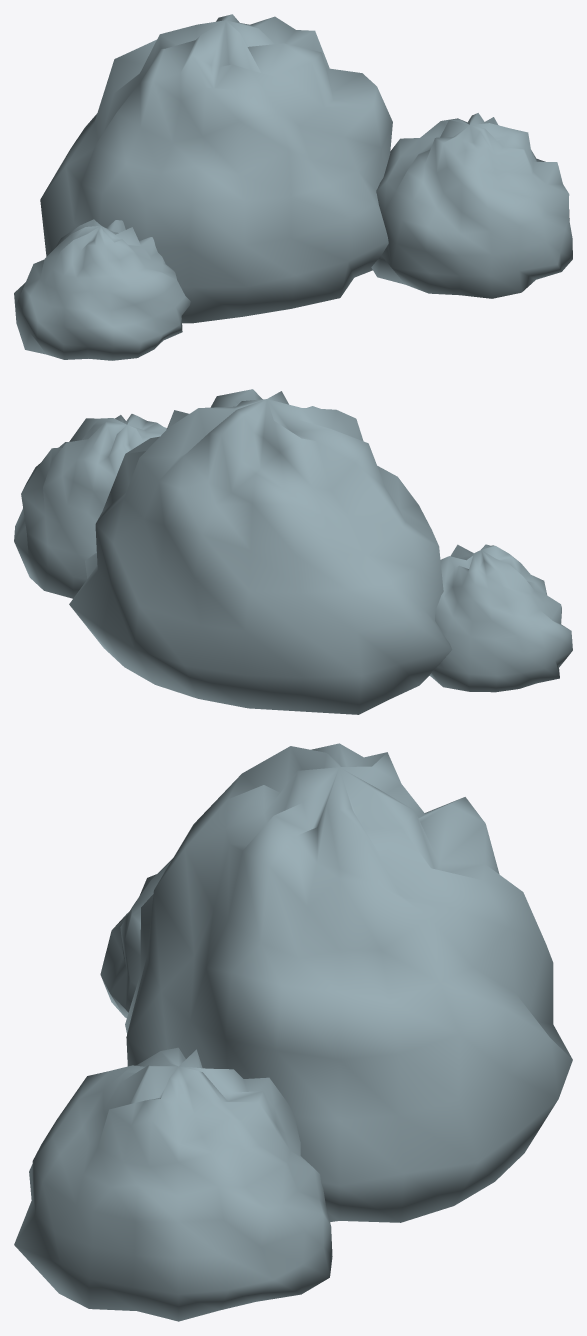
The model's file is reef-boulders.fbx.
3 views of the same model, one above another, from view 1: azimuth 30°, elevation 25°; view 2: azimuth 150°, elevation 25°; view 3: azimuth 270°, elevation 25° (orthographic). The views are drawn at different scales.
Visible parts, largest first — view 1: reef-boulders; view 2: reef-boulders; view 3: reef-boulders.
Boxes of the visible parts, x1,y1,x2,y2 form: reef-boulders: (14,14,572,360); reef-boulders: (14,389,572,714); reef-boulders: (14,743,572,1321).
Bounding box in the file's own units: 225 × 97.12 × 139.
